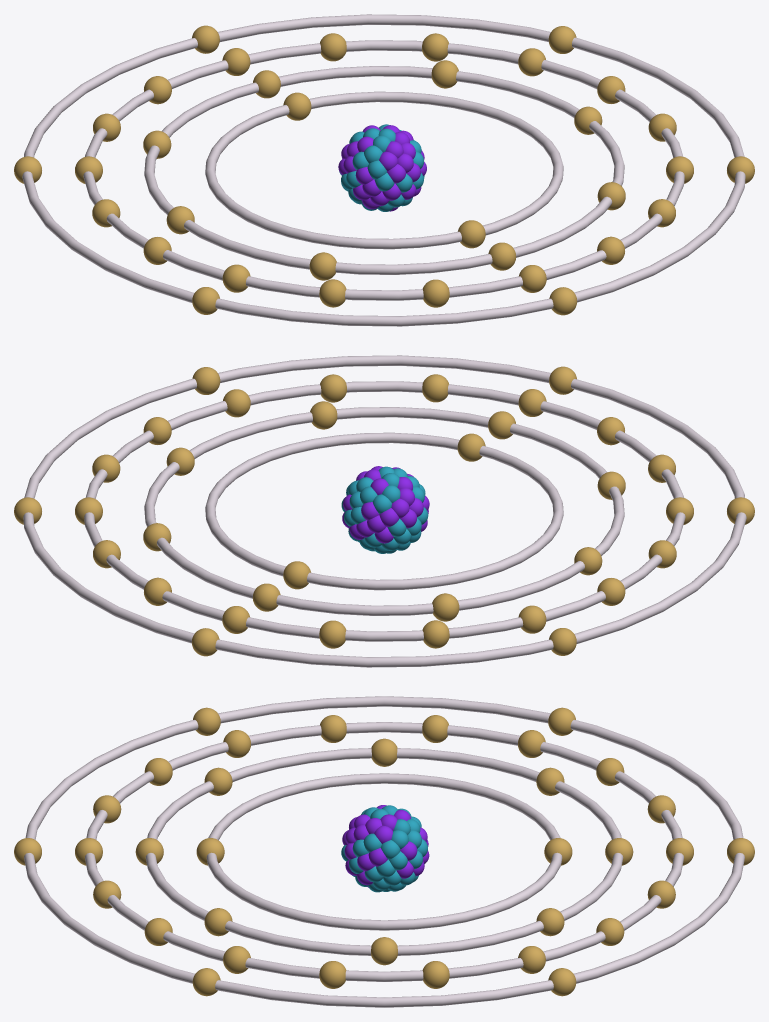
File: selenio.glb
3 views of the same model, one above another, from view 1: azimuth 30°, elevation 25°; view 2: azimuth 150°, elevation 25°; view 3: azimuth 270°, elevation 25° (orthographic).
Parts seen in each view (by area): view 1: Orbita_4, Orbita_3, Orbita_2, Orbita_1, Nucleo_Completo, Eletron_C2_8, Eletron_C3_18, Eletron_C3_17, Eletron_C3_9, Eletron_C2_4, Eletron_C3_8, Eletron_C2_1 (+27 smaller); view 2: Orbita_4, Orbita_3, Orbita_2, Orbita_1, Nucleo_Completo, Eletron_C2_6, Eletron_C3_11, Eletron_C3_12, Eletron_C3_2, Eletron_C2_2, Eletron_C3_3, Eletron_C2_5 (+27 smaller); view 3: Orbita_4, Orbita_3, Orbita_2, Orbita_1, Nucleo_Completo, Eletron_C2_3, Eletron_C3_5, Eletron_C3_6, Eletron_C2_7, Eletron_C3_14, Eletron_C3_15, Eletron_C4_2.001 (+27 smaller).
Part boxes in pixels (left/top/right/bottom): Orbita_4: left=22, top=14, right=745, bottom=326; Orbita_3: left=83, top=40, right=684, bottom=300; Orbita_2: left=144, top=66, right=624, bottom=274; Orbita_1: left=205, top=91, right=563, bottom=249; Nucleo_Completo: left=338, top=124, right=426, bottom=211; Eletron_C2_8: left=309, top=252, right=336, bottom=280; Eletron_C3_18: left=422, top=279, right=449, bottom=307; Eletron_C3_17: left=319, top=279, right=346, bottom=307; Eletron_C3_9: left=320, top=33, right=346, bottom=61; Eletron_C2_4: left=431, top=60, right=458, bottom=88; Eletron_C3_8: left=422, top=33, right=448, bottom=61; Eletron_C2_1: left=488, top=242, right=516, bottom=270; Orbita_4: left=23, top=355, right=746, bottom=667; Orbita_3: left=84, top=381, right=685, bottom=641; Orbita_2: left=144, top=407, right=624, bottom=615; Orbita_1: left=205, top=432, right=563, bottom=590; Nucleo_Completo: left=341, top=466, right=429, bottom=553; Eletron_C2_6: left=432, top=593, right=459, bottom=621; Eletron_C3_11: left=319, top=620, right=346, bottom=648; Eletron_C3_12: left=422, top=620, right=449, bottom=648; Eletron_C3_2: left=422, top=374, right=448, bottom=402; Eletron_C2_2: left=310, top=401, right=337, bottom=429; Eletron_C3_3: left=320, top=374, right=346, bottom=402; Eletron_C2_5: left=252, top=583, right=280, bottom=611; Orbita_4: left=24, top=696, right=744, bottom=1007; Orbita_3: left=85, top=722, right=683, bottom=981; Orbita_2: left=145, top=748, right=623, bottom=955; Orbita_1: left=206, top=773, right=562, bottom=930; Nucleo_Completo: left=341, top=805, right=429, bottom=892; Eletron_C2_3: left=371, top=937, right=397, bottom=965; Eletron_C3_5: left=319, top=961, right=346, bottom=988; Eletron_C3_6: left=422, top=961, right=449, bottom=988; Eletron_C2_7: left=371, top=738, right=397, bottom=766; Eletron_C3_14: left=422, top=715, right=448, bottom=742; Eletron_C3_15: left=320, top=715, right=346, bottom=742; Eletron_C4_2.001: left=548, top=968, right=576, bottom=996.
Bounding box in the file's own units: 4.16 × 0.507 × 4.26.
